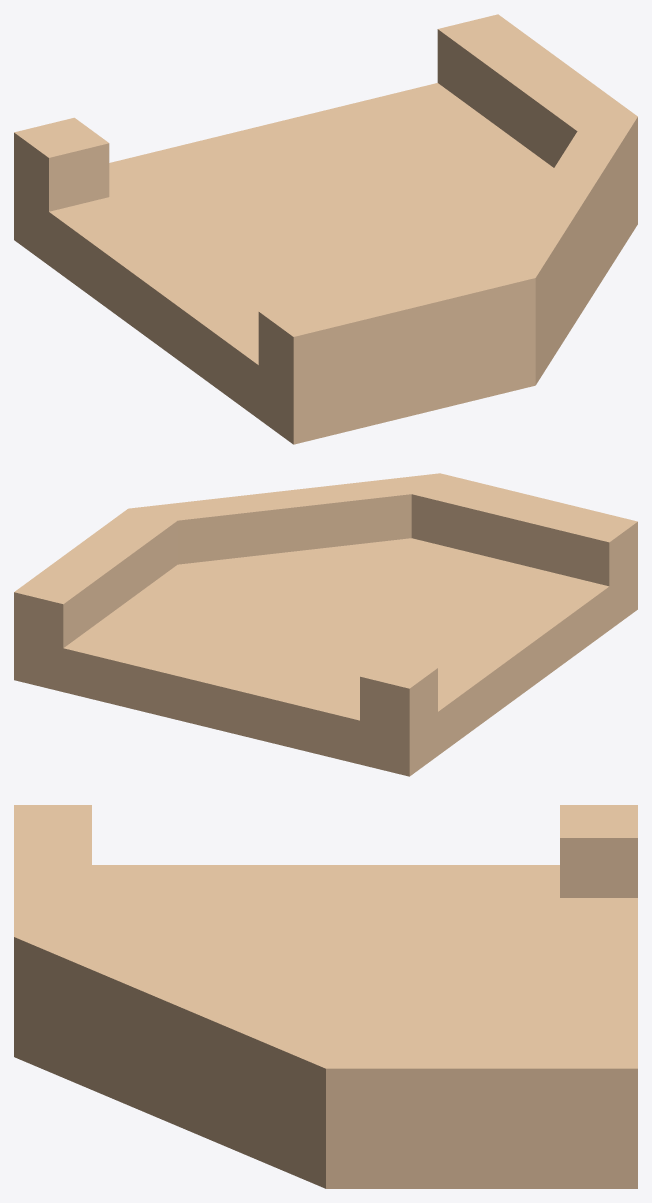
File: roof-flat-border-corner-slanted-passage.obj
3 views of the same model, one above another, from view 1: azimuth 30°, elevation 25°; view 2: azimuth 150°, elevation 25°; view 3: azimuth 270°, elevation 25° (orthographic). The views are drawn at different scales.
Size of the model in its own units: 1 by 0.2125 by 1.
